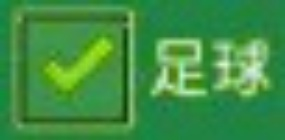CheckBox: (1, 1, 284, 139)
